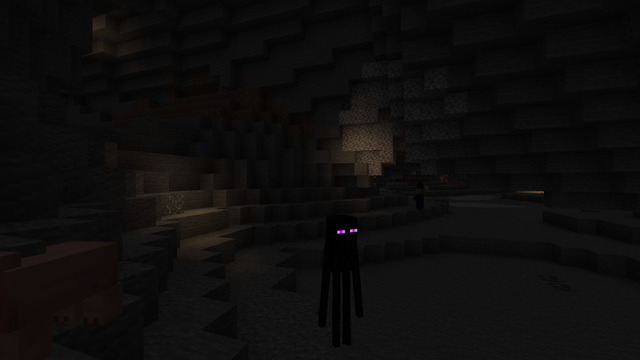cochons: (1, 238, 123, 359)
endermens: (324, 210, 357, 355)
sorcieres: (416, 187, 423, 210)
